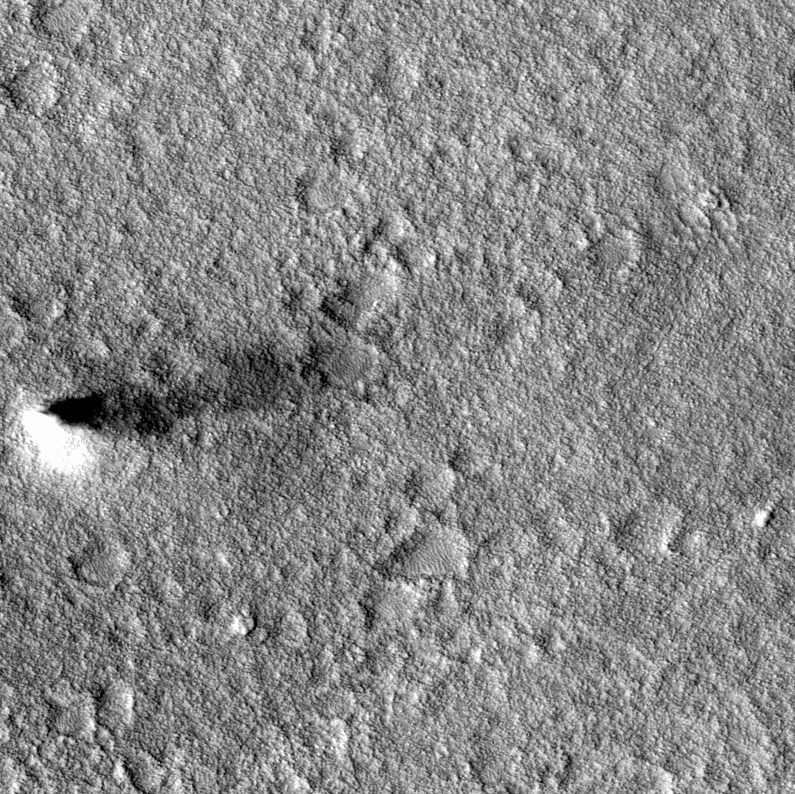dust_devil: (16, 279, 374, 481)
